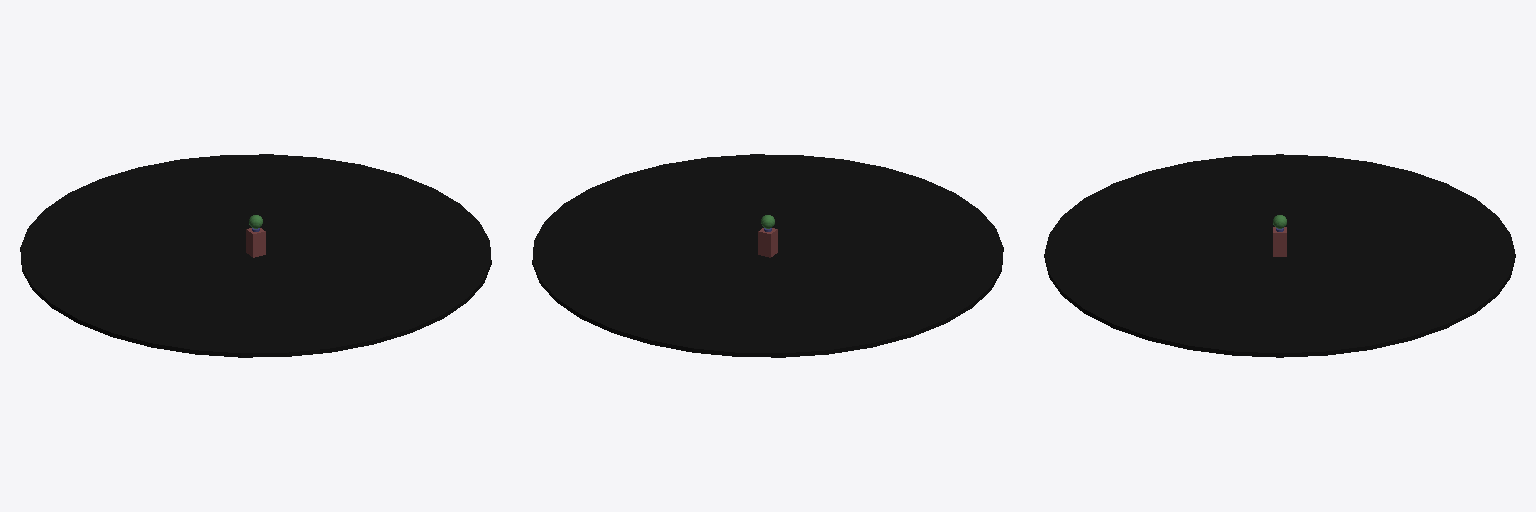
robot.urdf — two_arm_panda:
<?xml version='1.0' encoding='utf-8'?>
<robot name="two_arm_panda">


    <link name="base">
      <inertial>
        <origin xyz="0 0 0" rpy="0 0 0" />
        <mass value="4" />
        <inertia ixx="0.4" iyy="0.4" izz="0.4" ixy="0" ixz="0" iyz="0" />
      </inertial>
      <visual>
        <geometry>
          <cylinder radius="5" length="0.1"/>
        </geometry>
        <material name="material_gray">
          <color rgba="0.1 0.1 0.1 1.0" />
        </material>
      </visual>
<!--       <collision>
        <geometry>
          <cylinder radius="5" length="0.1"/>
        </geometry>
      </collision> -->
    </link>
    <link name="chest">
      <inertial>
        <origin xyz="0 0 0" rpy="0 0 0" />
        <mass value="4" />
        <inertia ixx="0.4" iyy="0.4" izz="0.4" ixy="0" ixz="0" iyz="0" />
      </inertial>
      <visual>
        <geometry>
          <box size="0.3 0.3 1.2"/>
        </geometry>
        <material name="material_red">
          <color rgba="0.5 0.3 0.3 1.0" />
        </material>        
      </visual>
      <visual>
        <origin xyz="0 0 0.8" rpy="0 0 0" />
        <geometry>
          <sphere radius="0.15"/>
        </geometry>
        <material name="material_red">
          <color rgba="0.3 0.5 0.3 1.0" />
        </material>        
      </visual>
      <visual>
        <origin xyz="0 0 0.59" rpy="0 0 0" />
        <geometry>
          <cylinder radius="0.08" length="0.1"/>
        </geometry>
        <material name="material_red">
          <color rgba="0.3 0.3 0.5 1.0" />
        </material>        
      </visual>
      <visual>
        <origin xyz="0 0.15 0.5" rpy="-1.57079632679 0 0" />
        <geometry>
          <mesh filename="../../../Model/meshes/visual/link0.obj"/>
        </geometry>
      </visual>
      <visual>
        <origin xyz="0 -0.15 0.5" rpy="1.57079632679 0 0" />
        <geometry>
          <mesh filename="../../../Model/meshes/visual/link0.obj"/>
        </geometry>
      </visual>
<!--       <collision>
        <geometry>
          <box size="0.2 0.2 1.6"/>
        </geometry>
      </collision> -->
    </link>

<!--   LEFT ARM     -->

    <link name="left_arm_link1">
      <inertial>
        <origin xyz="0 0 -0.07" rpy="0 -0 0" />
        <mass value="3" />
        <inertia ixx="0.3" iyy="0.3" izz="0.3" ixy="0" ixz="0" iyz="0" />
      </inertial>
      <visual>
        <geometry>
          <mesh filename="../../../Model/meshes/visual/link1.obj"/>
        </geometry>
      </visual>
      <!-- <collision>
        <geometry>
          <mesh filename="../../../Model/meshes/collision/link1.obj"/>
        </geometry>
      </collision> -->
    </link>
    <link name="left_arm_link2">
      <inertial>
        <origin xyz="0 -0.1 0" rpy="0 -0 0" />
        <mass value="3" />
        <inertia ixx="0.3" iyy="0.3" izz="0.3" ixy="0" ixz="0" iyz="0" />
      </inertial>
      <visual>
        <geometry>
          <mesh filename="../../../Model/meshes/visual/link2.obj"/>
        </geometry>
      </visual>
      <!-- <collision>
        <geometry>
          <mesh filename="../../../Model/meshes/collision/link2.obj"/>
        </geometry>
      </collision> -->
    </link>
    <link name="left_arm_link3">
      <inertial>
        <origin xyz="0.04 0 -0.05" rpy="0 -0 0" />
        <mass value="2" />
        <inertia ixx="0.2" iyy="0.2" izz="0.2" ixy="0" ixz="0" iyz="0" />
      </inertial>
      <visual>
        <geometry>
          <mesh filename="../../../Model/meshes/visual/link3.obj"/>
        </geometry>
      </visual>
      <!-- <collision>
        <geometry>
          <mesh filename="../../../Model/meshes/collision/link3.obj"/>
        </geometry>
      </collision> -->
    </link>
    <link name="left_arm_link4">
      <inertial>
        <origin xyz="-0.04 0.05 0" rpy="0 -0 0" />
        <mass value="2" />
        <inertia ixx="0.2" iyy="0.2" izz="0.2" ixy="0" ixz="0" iyz="0" />
      </inertial>
      <visual>
        <geometry>
          <mesh filename="../../../Model/meshes/visual/link4.obj"/>
        </geometry>
      </visual>
<!--       <collision>
        <geometry>
          <mesh filename="../../../Model/meshes/collision/link4.obj"/>
        </geometry>
      </collision> -->
    </link>
    <link name="left_arm_link5">
      <inertial>
        <origin xyz="0 0 -0.15" rpy="0 -0 0" />
        <mass value="2" />
        <inertia ixx="0.2" iyy="0.2" izz="0.2" ixy="0" ixz="0" iyz="0" />
      </inertial>
      <visual>
        <geometry>
          <mesh filename="../../../Model/meshes/visual/link5.obj"/>
        </geometry>
      </visual>
<!--       <collision>
        <geometry>
          <mesh filename="../../../Model/meshes/collision/link5.obj"/>
        </geometry>
      </collision> -->
    </link>
    <link name="left_arm_link6">
      <inertial>
        <origin xyz="0.06 0 0" rpy="0 -0 0" />
        <mass value="1.5" />
        <inertia ixx="0.1" iyy="0.1" izz="0.1" ixy="0" ixz="0" iyz="0" />
      </inertial>
      <visual>
        <geometry>
          <mesh filename="../../../Model/meshes/visual/link6.obj"/>
        </geometry>
      </visual>
      <!-- <collision>
        <geometry>
          <mesh filename="../../../Model/meshes/collision/link6.obj"/>
        </geometry>
      </collision> -->
    </link>
    <link name="left_arm_link7">
      <inertial>
        <origin xyz="0 0 0.17" rpy="0 -0 0" />
        <mass value="1.8" />
        <inertia ixx="0.09" iyy="0.05" izz="0.07" ixy="0" ixz="0" iyz="0" />
      </inertial>
      <visual>
        <geometry>
          <mesh filename="../../../Model/meshes/visual/link7.obj"/>
        </geometry>
      </visual>
      <!-- <collision>
        <geometry>
          <mesh filename="../../../Model/meshes/collision/link7.obj"/>
        </geometry>
      </collision> -->
    </link>

<!--   RIGHT ARM     -->

    <link name="right_arm_link1">
      <inertial>
        <origin xyz="0 0 -0.07" rpy="0 -0 0" />
        <mass value="3" />
        <inertia ixx="0.3" iyy="0.3" izz="0.3" ixy="0" ixz="0" iyz="0" />
      </inertial>
      <visual>
        <geometry>
          <mesh filename="../../../Model/meshes/visual/link1.obj"/>
        </geometry>
      </visual>
      <!-- <collision>
        <geometry>
          <mesh filename="../../../Model/meshes/collision/link1.obj"/>
        </geometry>
      </collision> -->
    </link>
    <link name="right_arm_link2">
      <inertial>
        <origin xyz="0 -0.1 0" rpy="0 -0 0" />
        <mass value="3" />
        <inertia ixx="0.3" iyy="0.3" izz="0.3" ixy="0" ixz="0" iyz="0" />
      </inertial>
      <visual>
        <geometry>
          <mesh filename="../../../Model/meshes/visual/link2.obj"/>
        </geometry>
      </visual>
      <!-- <collision>
        <geometry>
          <mesh filename="../../../Model/meshes/collision/link2.obj"/>
        </geometry>
      </collision> -->
    </link>
    <link name="right_arm_link3">
      <inertial>
        <origin xyz="0.04 0 -0.05" rpy="0 -0 0" />
        <mass value="2" />
        <inertia ixx="0.2" iyy="0.2" izz="0.2" ixy="0" ixz="0" iyz="0" />
      </inertial>
      <visual>
        <geometry>
          <mesh filename="../../../Model/meshes/visual/link3.obj"/>
        </geometry>
      </visual>
      <!-- <collision>
        <geometry>
          <mesh filename="../../../Model/meshes/collision/link3.obj"/>
        </geometry>
      </collision> -->
    </link>
    <link name="right_arm_link4">
      <inertial>
        <origin xyz="-0.04 0.05 0" rpy="0 -0 0" />
        <mass value="2" />
        <inertia ixx="0.2" iyy="0.2" izz="0.2" ixy="0" ixz="0" iyz="0" />
      </inertial>
      <visual>
        <geometry>
          <mesh filename="../../../Model/meshes/visual/link4.obj"/>
        </geometry>
      </visual>
<!--       <collision>
        <geometry>
          <mesh filename="../../../Model/meshes/collision/link4.obj"/>
        </geometry>
      </collision> -->
    </link>
    <link name="right_arm_link5">
      <inertial>
        <origin xyz="0 0 -0.15" rpy="0 -0 0" />
        <mass value="2" />
        <inertia ixx="0.2" iyy="0.2" izz="0.2" ixy="0" ixz="0" iyz="0" />
      </inertial>
      <visual>
        <geometry>
          <mesh filename="../../../Model/meshes/visual/link5.obj"/>
        </geometry>
      </visual>
<!--       <collision>
        <geometry>
          <mesh filename="../../../Model/meshes/collision/link5.obj"/>
        </geometry>
      </collision> -->
    </link>
    <link name="right_arm_link6">
      <inertial>
        <origin xyz="0.06 0 0" rpy="0 -0 0" />
        <mass value="1.5" />
        <inertia ixx="0.1" iyy="0.1" izz="0.1" ixy="0" ixz="0" iyz="0" />
      </inertial>
      <visual>
        <geometry>
          <mesh filename="../../../Model/meshes/visual/link6.obj"/>
        </geometry>
      </visual>
      <!-- <collision>
        <geometry>
          <mesh filename="../../../Model/meshes/collision/link6.obj"/>
        </geometry>
      </collision> -->
    </link>
    <link name="right_arm_link7">
      <inertial>
        <origin xyz="0 0 0.17" rpy="0 -0 0" />
        <mass value="1.8" />
        <inertia ixx="0.09" iyy="0.05" izz="0.07" ixy="0" ixz="0" iyz="0" />
      </inertial>
      <visual>
        <geometry>
          <mesh filename="../../../Model/meshes/visual/link7.obj"/>
        </geometry>
      </visual>
    </link>







    <joint name="trunk" type="prismatic">
      <safety_controller k_position="100.0" k_velocity="40.0" soft_lower_limit="-2.8973" soft_upper_limit="2.8973"/>
      <origin rpy="0 0 0" xyz="0 0 0"/>
      <parent link="base"/>
      <child link="chest"/>
      <axis xyz="0 0 1"/>
      <limit effort="87" lower="-2.8973" upper="2.8973" velocity="2.1750"/>
    </joint>

<!--   LEFT ARM JOINT     -->

    <joint name="left_arm_joint1" type="revolute">
      <safety_controller k_position="100.0" k_velocity="40.0" soft_lower_limit="-2.8973" soft_upper_limit="2.8973"/>
      <origin rpy="-1.57079632679 0 0" xyz="0 0.483 0.5"/>
      <parent link="chest"/>
      <child link="left_arm_link1"/>
      <axis xyz="0 0 1"/>
      <limit effort="87" lower="-2.8973" upper="2.8973" velocity="2.1750"/>
    </joint>
    <joint name="left_arm_joint2" type="revolute">
      <safety_controller k_position="100.0" k_velocity="40.0" soft_lower_limit="-1.7628" soft_upper_limit="1.7628"/>
      <origin rpy="-1.57079632679 0 0" xyz="0 0 0"/>
      <parent link="left_arm_link1"/>
      <child link="left_arm_link2"/>
      <axis xyz="0 0 1"/>
      <calibration falling="15.0" />
      <limit effort="87" lower="-1.7628" upper="1.7628" velocity="2.1750"/>
    </joint>
    <joint name="left_arm_joint3" type="revolute">
      <safety_controller k_position="100.0" k_velocity="40.0" soft_lower_limit="-2.8973" soft_upper_limit="2.8973"/>
      <origin rpy="1.57079632679 0 0" xyz="0 -0.316 0"/>
      <parent link="left_arm_link2"/>
      <child link="left_arm_link3"/>
      <axis xyz="0 0 1"/>
      <limit effort="87" lower="-2.8973" upper="2.8973" velocity="2.1750"/>
    </joint>
    <joint name="left_arm_joint4" type="revolute">
      <safety_controller k_position="100.0" k_velocity="40.0" soft_lower_limit="-3.0718" soft_upper_limit="-0.0698"/>
      <origin rpy="1.57079632679 0 0" xyz="0.0825 0 0"/>
      <parent link="left_arm_link3"/>
      <child link="left_arm_link4"/>
      <axis xyz="0 0 1"/>
      <calibration falling="-95.0" />
      <limit effort="87" lower="-3.0718" upper="-0.0698" velocity="2.1750"/>
    </joint>
    <joint name="left_arm_joint5" type="revolute">
      <safety_controller k_position="100.0" k_velocity="40.0" soft_lower_limit="-2.8973" soft_upper_limit="2.8973"/>
      <origin rpy="-1.57079632679 0 0" xyz="-0.0825 0.384 0"/>
      <parent link="left_arm_link4"/>
      <child link="left_arm_link5"/>
      <axis xyz="0 0 1"/>
      <limit effort="12" lower="-2.8973" upper="2.8973" velocity="2.6100"/>
    </joint>
    <joint name="left_arm_joint6" type="revolute">
      <safety_controller k_position="100.0" k_velocity="40.0" soft_lower_limit="-0.0175" soft_upper_limit="3.7525"/>
      <origin rpy="1.57079632679 0 0" xyz="0 0 0"/>
      <parent link="left_arm_link5"/>
      <child link="left_arm_link6"/>
      <axis xyz="0 0 1"/>
      <calibration falling="125.0" />
      <limit effort="12" lower="-0.0175" upper="3.7525" velocity="2.6100"/>
    </joint>
    <joint name="left_arm_joint7" type="revolute">
      <safety_controller k_position="100.0" k_velocity="40.0" soft_lower_limit="-2.8973" soft_upper_limit="2.8973"/>
      <origin rpy="1.57079632679 0 0" xyz="0.088 0 0"/>
      <parent link="left_arm_link6"/>
      <child link="left_arm_link7"/>
      <axis xyz="0 0 1"/>
      <limit effort="12" lower="-2.8973" upper="2.8973" velocity="2.6100"/>
    </joint>

<!--   RIGHT ARM JOINT     -->

    <joint name="right_arm_joint1" type="revolute">
      <safety_controller k_position="100.0" k_velocity="40.0" soft_lower_limit="-2.8973" soft_upper_limit="2.8973"/>
      <origin rpy="1.57079632679 0 0" xyz="0 -0.483 0.5"/>
      <parent link="chest"/>
      <child link="right_arm_link1"/>
      <axis xyz="0 0 1"/>
      <limit effort="87" lower="-2.8973" upper="2.8973" velocity="2.1750"/>
    </joint>
    <joint name="right_arm_joint2" type="revolute">
      <safety_controller k_position="100.0" k_velocity="40.0" soft_lower_limit="-1.7628" soft_upper_limit="1.7628"/>
      <origin rpy="-1.57079632679 0 0" xyz="0 0 0"/>
      <parent link="right_arm_link1"/>
      <child link="right_arm_link2"/>
      <axis xyz="0 0 1"/>
      <calibration falling="15.0" />
      <limit effort="87" lower="-1.7628" upper="1.7628" velocity="2.1750"/>
    </joint>
    <joint name="right_arm_joint3" type="revolute">
      <safety_controller k_position="100.0" k_velocity="40.0" soft_lower_limit="-2.8973" soft_upper_limit="2.8973"/>
      <origin rpy="1.57079632679 0 0" xyz="0 -0.316 0"/>
      <parent link="right_arm_link2"/>
      <child link="right_arm_link3"/>
      <axis xyz="0 0 1"/>
      <limit effort="87" lower="-2.8973" upper="2.8973" velocity="2.1750"/>
    </joint>
    <joint name="right_arm_joint4" type="revolute">
      <safety_controller k_position="100.0" k_velocity="40.0" soft_lower_limit="-3.0718" soft_upper_limit="-0.0698"/>
      <origin rpy="1.57079632679 0 0" xyz="0.0825 0 0"/>
      <parent link="right_arm_link3"/>
      <child link="right_arm_link4"/>
      <axis xyz="0 0 1"/>
      <calibration falling="-95.0" />
      <limit effort="87" lower="-3.0718" upper="-0.0698" velocity="2.1750"/>
    </joint>
    <joint name="right_arm_joint5" type="revolute">
      <safety_controller k_position="100.0" k_velocity="40.0" soft_lower_limit="-2.8973" soft_upper_limit="2.8973"/>
      <origin rpy="-1.57079632679 0 0" xyz="-0.0825 0.384 0"/>
      <parent link="right_arm_link4"/>
      <child link="right_arm_link5"/>
      <axis xyz="0 0 1"/>
      <limit effort="12" lower="-2.8973" upper="2.8973" velocity="2.6100"/>
    </joint>
    <joint name="right_arm_joint6" type="revolute">
      <safety_controller k_position="100.0" k_velocity="40.0" soft_lower_limit="-0.0175" soft_upper_limit="3.7525"/>
      <origin rpy="1.57079632679 0 0" xyz="0 0 0"/>
      <parent link="right_arm_link5"/>
      <child link="right_arm_link6"/>
      <axis xyz="0 0 1"/>
      <calibration falling="125.0" />
      <limit effort="12" lower="-0.0175" upper="3.7525" velocity="2.6100"/>
    </joint>
    <joint name="right_arm_joint7" type="revolute">
      <safety_controller k_position="100.0" k_velocity="40.0" soft_lower_limit="-2.8973" soft_upper_limit="2.8973"/>
      <origin rpy="1.57079632679 0 0" xyz="0.088 0 0"/>
      <parent link="right_arm_link6"/>
      <child link="right_arm_link7"/>
      <axis xyz="0 0 1"/>
      <limit effort="12" lower="-2.8973" upper="2.8973" velocity="2.6100"/>
    </joint>


</robot>

--- Facts derived from the render (not from the file) ---
The picture shows the robot from 3 angles, left to right: view 1: azimuth 30°, elevation 25°; view 2: azimuth 150°, elevation 25°; view 3: azimuth 270°, elevation 25°; orthographic projection.
Model two_arm_panda with 16 links and 15 joints (14 revolute, 1 prismatic), rooted at base, posed joints at zero except 2 at the middle of their limits (left_arm_joint4 = -1.57, right_arm_joint4 = -1.57).
Visible links, largest first — view 1: base, chest; view 2: base, chest; view 3: base, chest.
Link boxes in pixels (x1,y1,x2,y2): base: (20, 154, 491, 357); chest: (246, 215, 265, 257); base: (532, 154, 1003, 357); chest: (758, 215, 777, 257); base: (1044, 154, 1515, 357); chest: (1273, 215, 1286, 256).
Bounding box of the posed robot: 10 × 10 × 1.55 m (x, y, z).
Geometry: only primitive shapes (box / cylinder / sphere) drawn; not drawn: 16 mesh visuals (reference in a form the renderer does not follow).